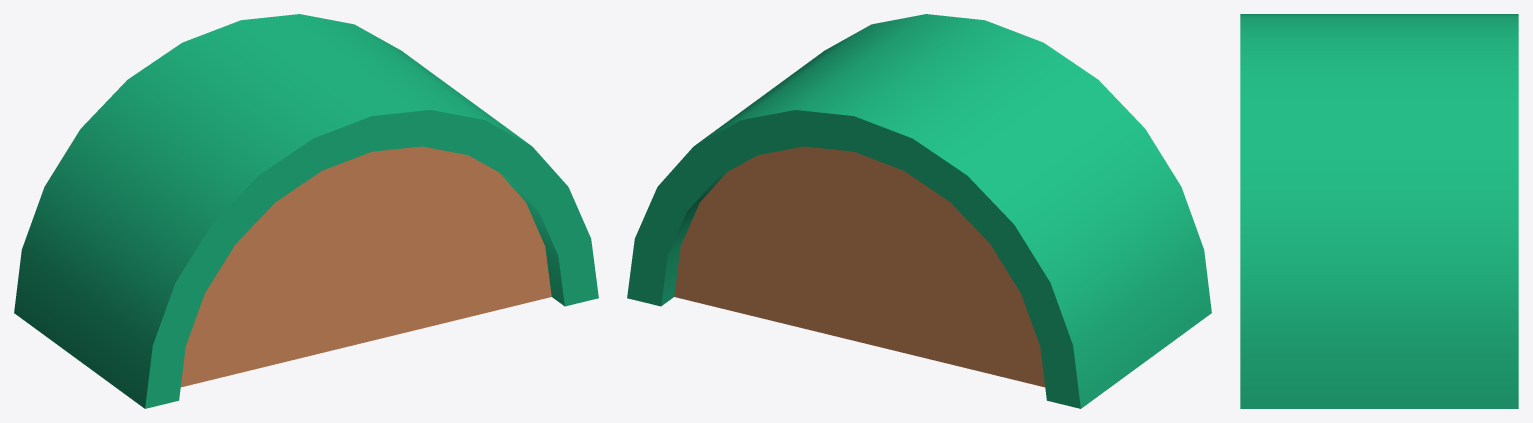
Rendered from blockCurve.fbx.
3 renders of one model, left to right at view 1: azimuth 30°, elevation 25°; view 2: azimuth 150°, elevation 25°; view 3: azimuth 270°, elevation 25°, orthographic. The views are drawn at different scales.
Parts seen in each view (by area): view 1: blockCurve; view 2: blockCurve; view 3: blockCurve.
Boxes of the visible parts, x1,y1,x2,y2 form: blockCurve: (14,14,598,408); blockCurve: (627,14,1211,408); blockCurve: (1240,14,1518,408).
Size of the model in its own units: 20 by 10 by 10.
